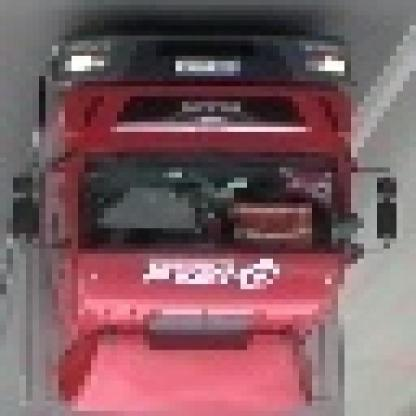truck: (1, 37, 397, 416)
